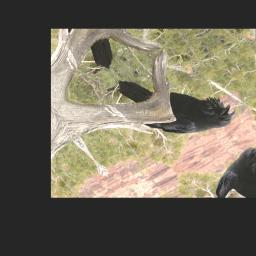Crow: (111, 46, 243, 157)
